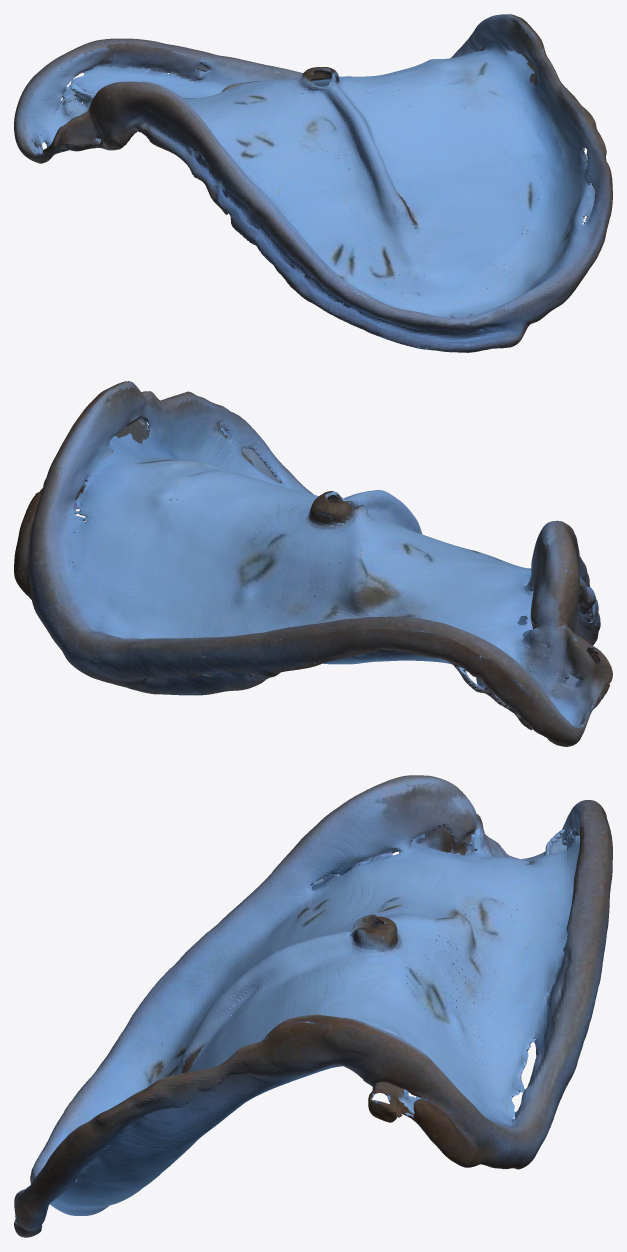
3 views of the same model, one above another, from view 1: azimuth 30°, elevation 25°; view 2: azimuth 150°, elevation 25°; view 3: azimuth 270°, elevation 25° (orthographic). The views are drawn at different scales.
Visible parts, largest first — view 1: Hy21_Mesh.obj; view 2: Hy21_Mesh.obj; view 3: Hy21_Mesh.obj.
Part boxes in pixels (box(x1,y1,x2,y2)): Hy21_Mesh.obj: box(14, 14, 612, 352); Hy21_Mesh.obj: box(14, 381, 612, 746); Hy21_Mesh.obj: box(14, 775, 612, 1237).
Size of the model in its own units: 1.91 by 0.901 by 1.62.
1 material, 1 textured.
